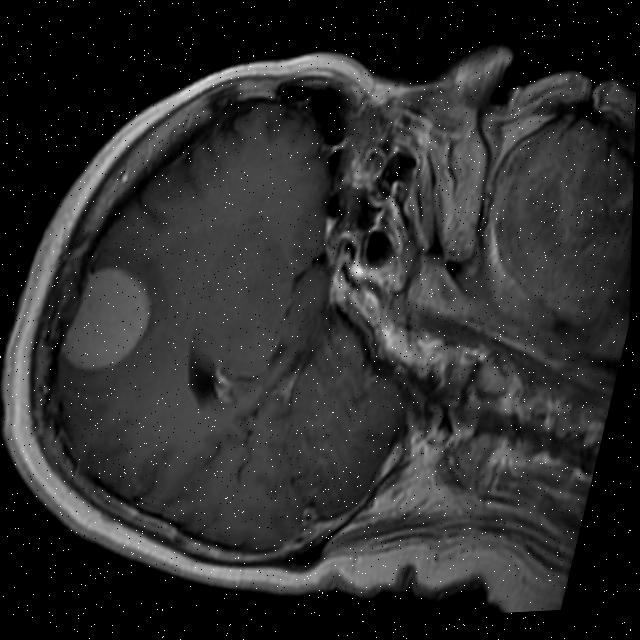Meningioma: (53, 256, 162, 386)
